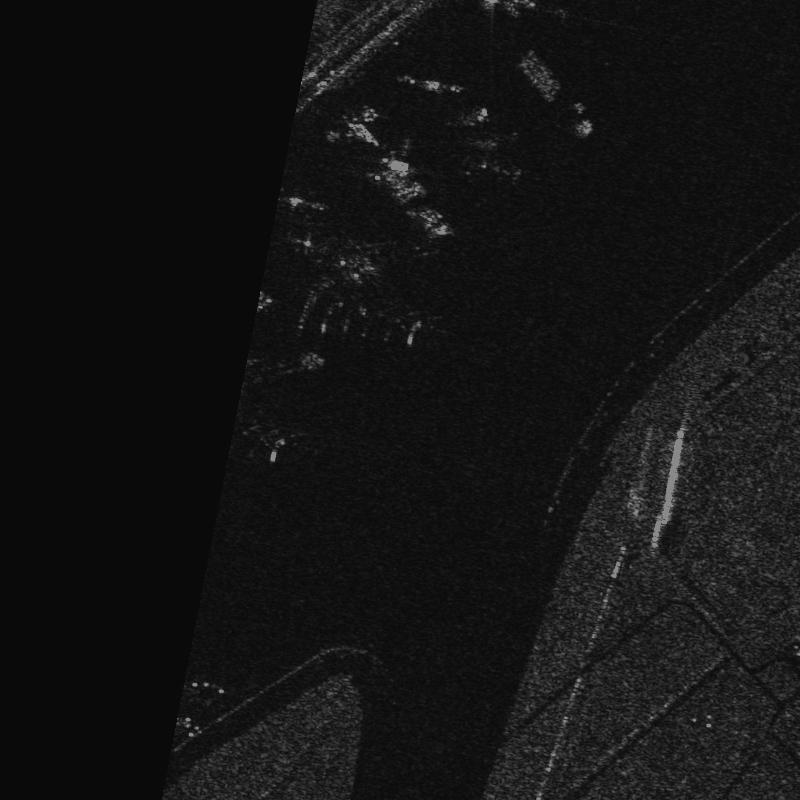Boeing787: (287, 217, 446, 355)
other: (447, 97, 534, 186)
